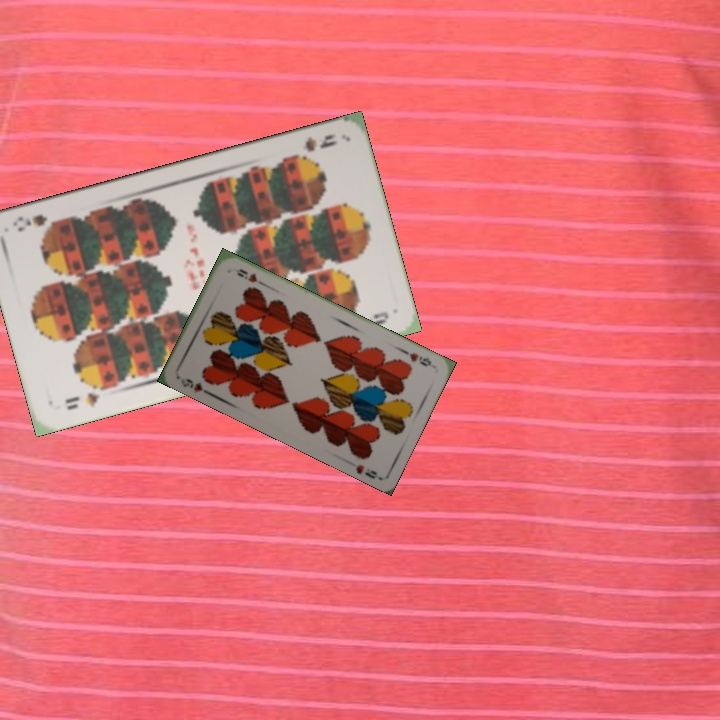H9: (176, 374, 213, 398), (405, 348, 434, 369)
S9: (285, 130, 340, 162), (61, 388, 103, 413)
